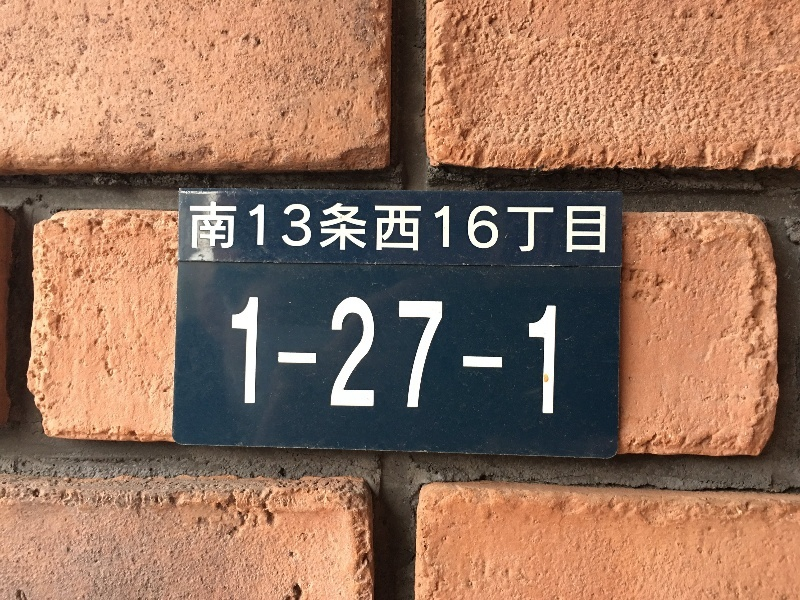text: (241, 291, 256, 418), (257, 291, 272, 418), (273, 291, 288, 418), (289, 291, 304, 418), (305, 291, 320, 418), (321, 291, 336, 418), (337, 291, 352, 418), (353, 291, 368, 418), (369, 291, 384, 418), (385, 291, 400, 418), (401, 291, 416, 418), (417, 291, 432, 418), (433, 291, 448, 418), (449, 291, 464, 418), (465, 291, 480, 418), (481, 291, 496, 418), (497, 291, 512, 418), (513, 291, 528, 418), (529, 291, 544, 418), (227, 291, 240, 418), (545, 291, 558, 418), (593, 198, 609, 260), (193, 198, 208, 260), (209, 198, 224, 260), (225, 198, 240, 260), (241, 198, 256, 260), (257, 198, 272, 260), (273, 198, 288, 260), (289, 198, 304, 260), (305, 198, 320, 260), (321, 198, 336, 260), (337, 198, 352, 260), (353, 198, 368, 260), (369, 198, 384, 260), (385, 198, 400, 260), (401, 198, 416, 260), (417, 198, 432, 260), (433, 198, 448, 260), (449, 198, 464, 260), (465, 198, 480, 260), (481, 198, 496, 260), (497, 198, 512, 260), (513, 198, 528, 260), (529, 198, 544, 260), (545, 198, 560, 260), (561, 198, 576, 260), (577, 198, 592, 260), (188, 198, 192, 260)
